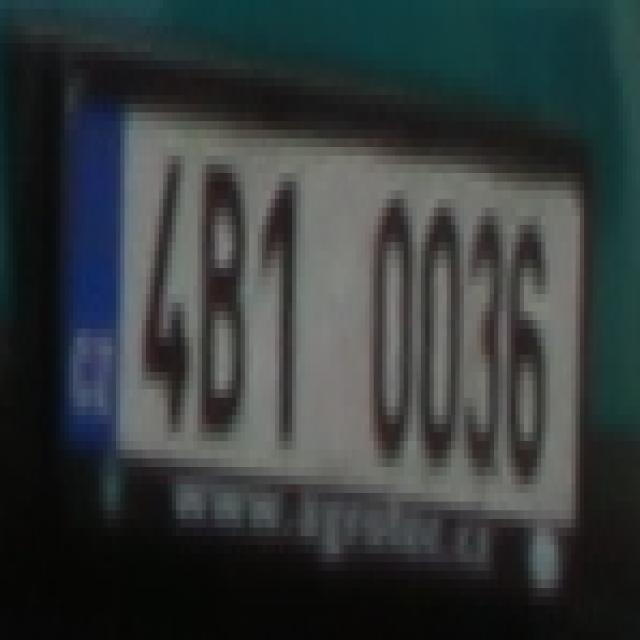0: (361, 182, 416, 450), (416, 191, 459, 458)
1: (253, 164, 305, 450)
3: (464, 191, 502, 458)
4: (133, 147, 189, 424)
6: (502, 199, 546, 484)
B: (198, 147, 249, 432)
